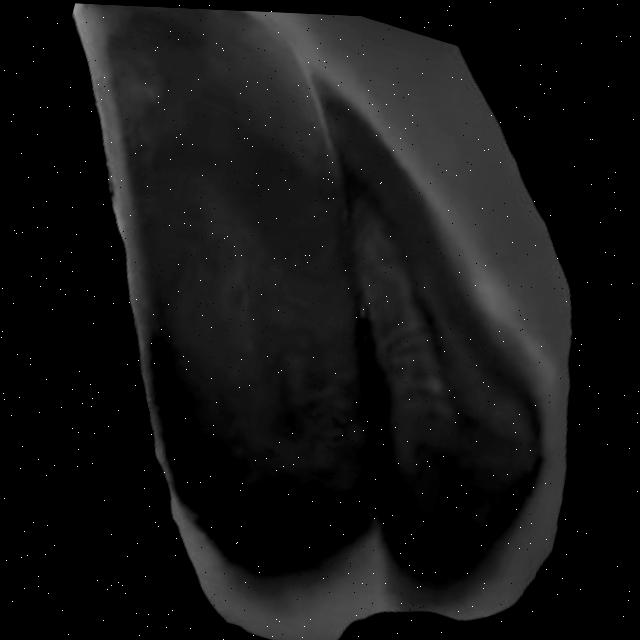mite: (196, 70, 621, 625)
